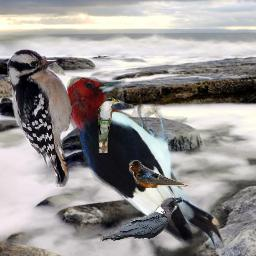Crow: (100, 197, 183, 242)
Cuckoo: (97, 97, 119, 153)
Swallow: (129, 160, 191, 188)
Woodpecker: (67, 76, 229, 250), (7, 49, 88, 187)
